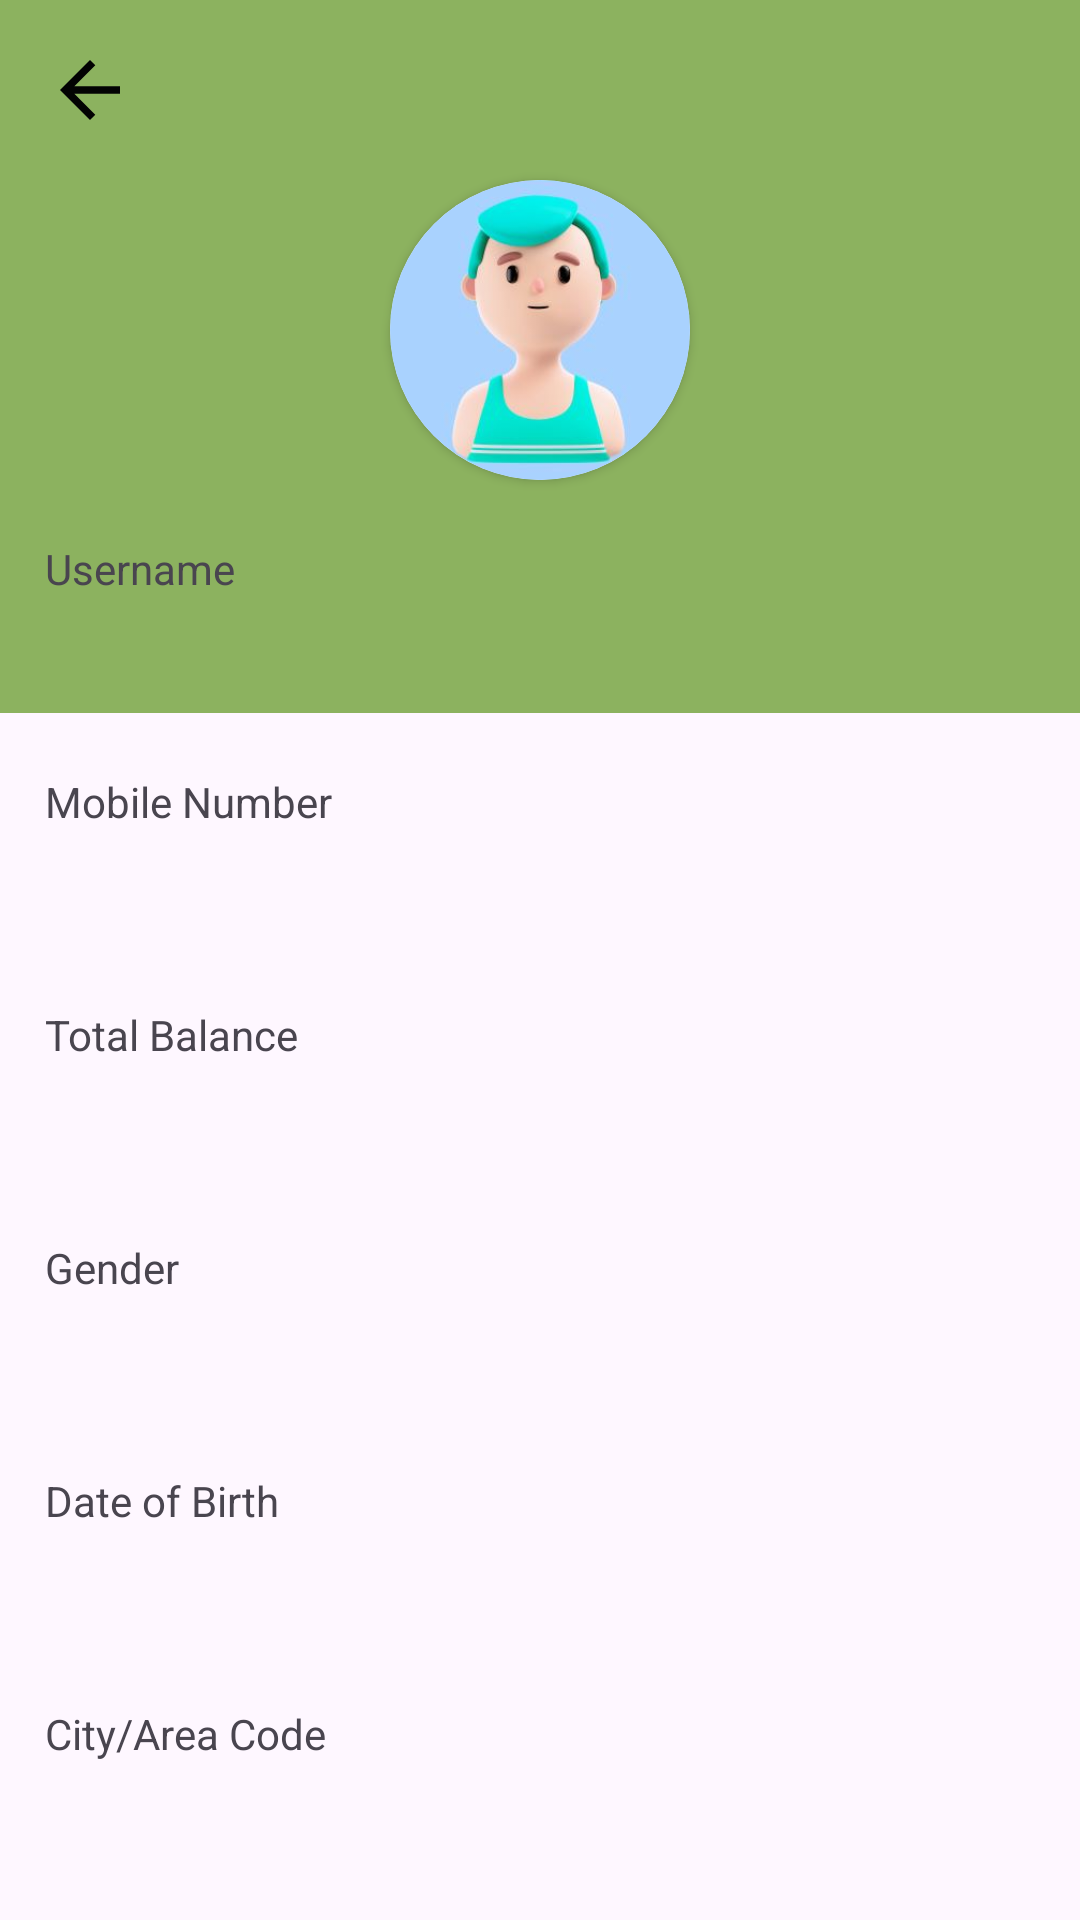

Locate icon controls on the screen. Image size 1080*1920, boxes as [x1=x1, y1=y1, x2=x2, y2=y2].
Back Button: [x1=60, y1=60, x2=120, y2=120]
Profile: [x1=390, y1=180, x2=690, y2=480]
